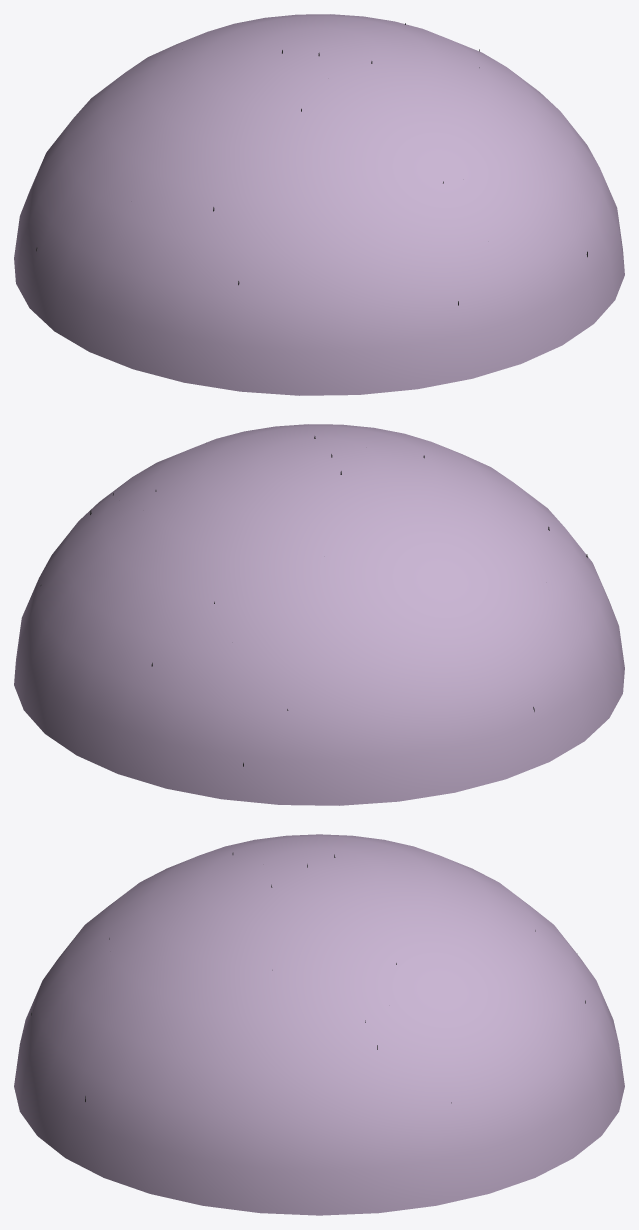
The model's file is particule_000007.obj.
The picture shows the model from 3 angles, top to bottom: view 1: azimuth 30°, elevation 25°; view 2: azimuth 150°, elevation 25°; view 3: azimuth 270°, elevation 25°; orthographic projection.
Parts seen in each view (by area): view 1: Sphère; view 2: Sphère; view 3: Sphère.
Boxes of the visible parts, x1=… form: Sphère: x1=14, y1=14, x2=624, y2=395; Sphère: x1=14, y1=424, x2=624, y2=805; Sphère: x1=14, y1=834, x2=624, y2=1215.
Size of the model in its own units: 63430 by 25312 by 63430.
